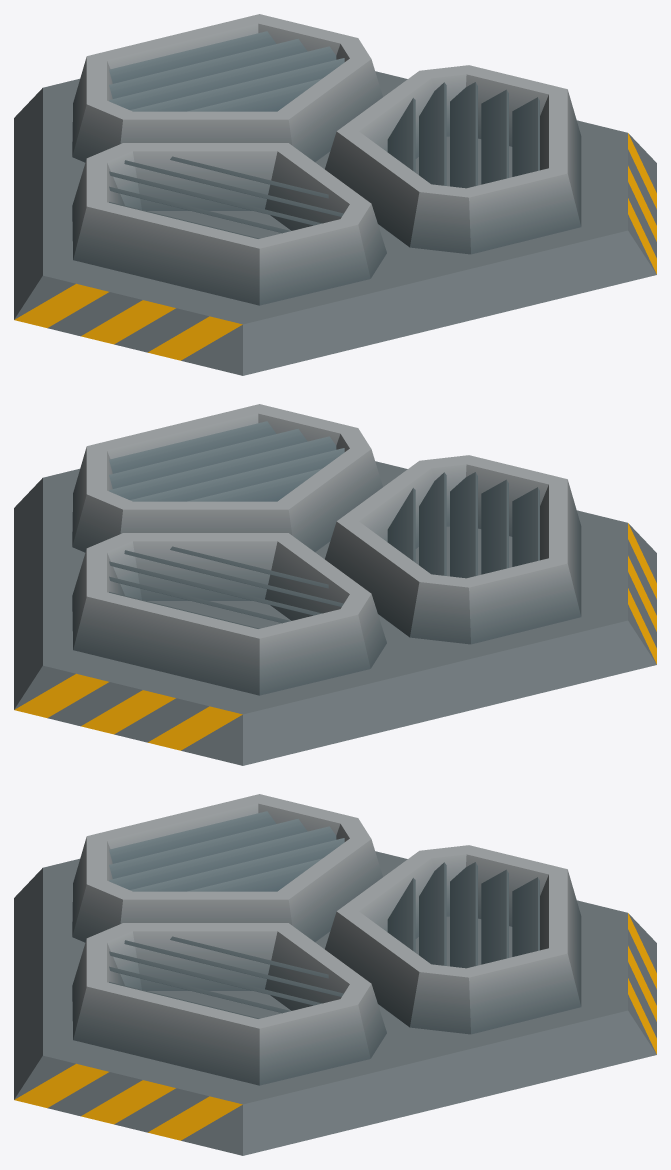
Rendered from Ventilation_012.glb.
3 views of the same model, one above another, from view 1: azimuth 30°, elevation 25°; view 2: azimuth 150°, elevation 25°; view 3: azimuth 270°, elevation 25° (orthographic).
Parts seen in each view (by area): view 1: Ventilation_012; view 2: Ventilation_012; view 3: Ventilation_012.
Boxes of the visible parts, bbox=[...] form: Ventilation_012: bbox=[14, 14, 656, 375]; Ventilation_012: bbox=[14, 404, 656, 765]; Ventilation_012: bbox=[14, 794, 656, 1155].
Bounding box in the file's own units: 1.4 × 0.1823 × 1.21.
Materials: 1 (1 with a texture image).
